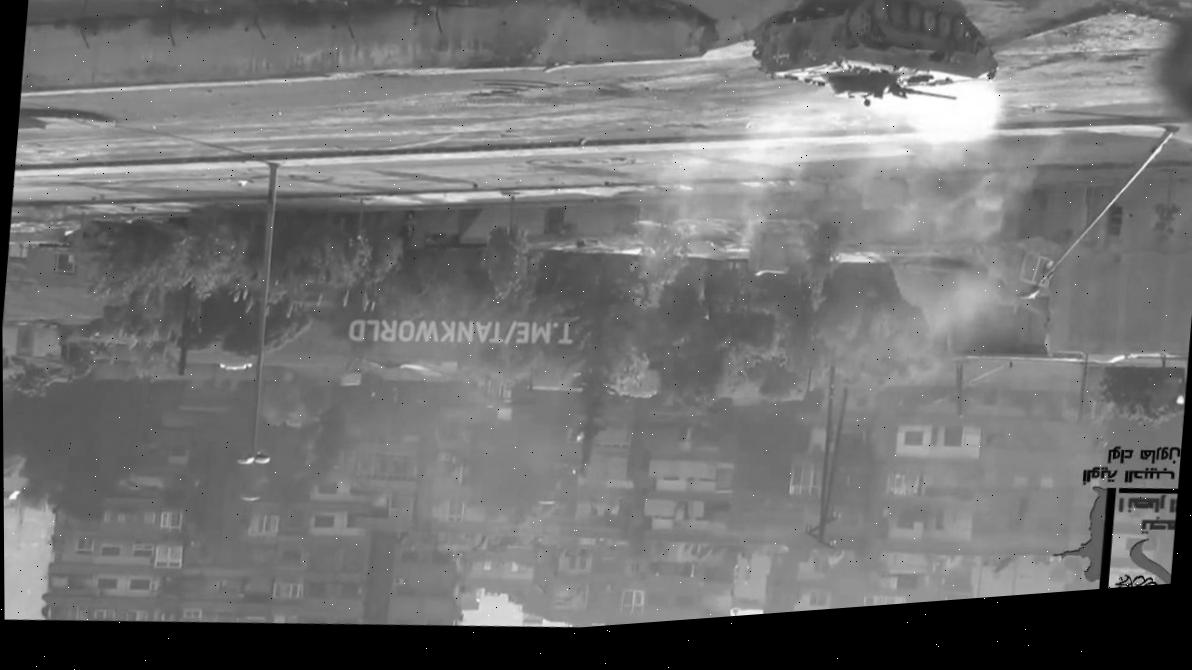tank: (744, 0, 1003, 124)
